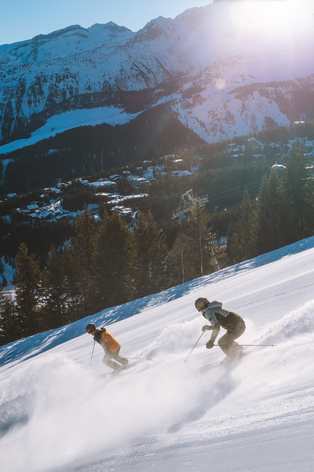skier: (178, 298, 277, 373), (74, 321, 144, 378)
